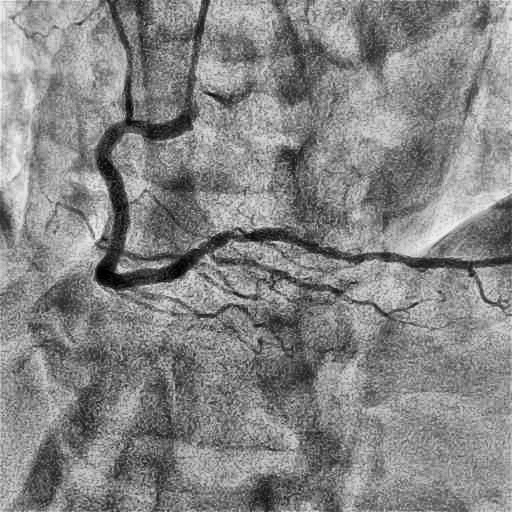pborca: (469, 256, 511, 267)
pda: (469, 269, 505, 310)
rca: (95, 115, 470, 290)
